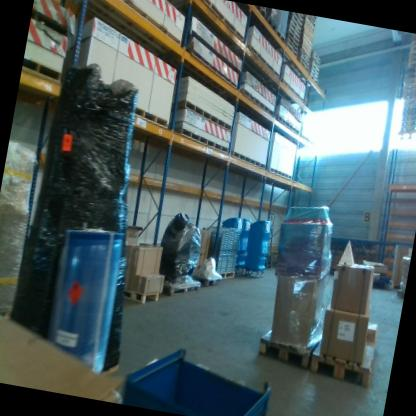pallet: (307, 316, 378, 387), (256, 306, 325, 370), (160, 273, 200, 300), (197, 272, 219, 289), (214, 266, 236, 281), (264, 15, 279, 33), (273, 27, 287, 44), (399, 120, 416, 134), (252, 5, 267, 19), (401, 110, 416, 124), (400, 115, 416, 128), (402, 104, 416, 118), (402, 99, 416, 113), (403, 93, 416, 107), (403, 87, 416, 101), (403, 83, 416, 96), (404, 77, 416, 91), (387, 278, 400, 290), (405, 71, 416, 85), (406, 65, 416, 79), (407, 60, 416, 74), (407, 55, 416, 69), (408, 50, 416, 64), (409, 45, 416, 59), (410, 39, 416, 54), (410, 34, 416, 48), (411, 33, 416, 42)
